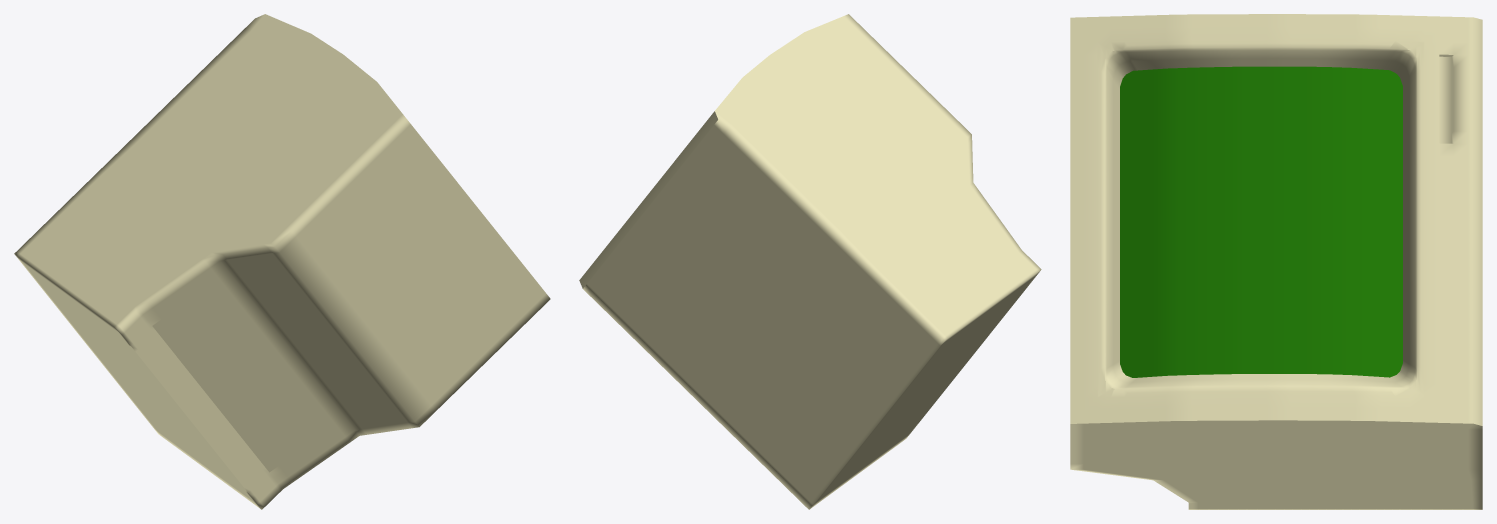
The model's file is monitor_padre.fbx.
3 views of the same model, side by side, from view 1: azimuth 30°, elevation 25°; view 2: azimuth 150°, elevation 25°; view 3: azimuth 270°, elevation 25° (orthographic). The views are drawn at different scales.
Visible parts, largest first — view 1: Pc; view 2: Pc; view 3: Pc, Screen.
Part boxes in pixels (box(x1,y1,x2,y2)): Pc: box(14, 14, 550, 509); Pc: box(579, 14, 1041, 509); Pc: box(1070, 14, 1482, 509); Screen: box(1120, 66, 1402, 377).
Bounding box in the file's own units: 177 × 170 × 110.
